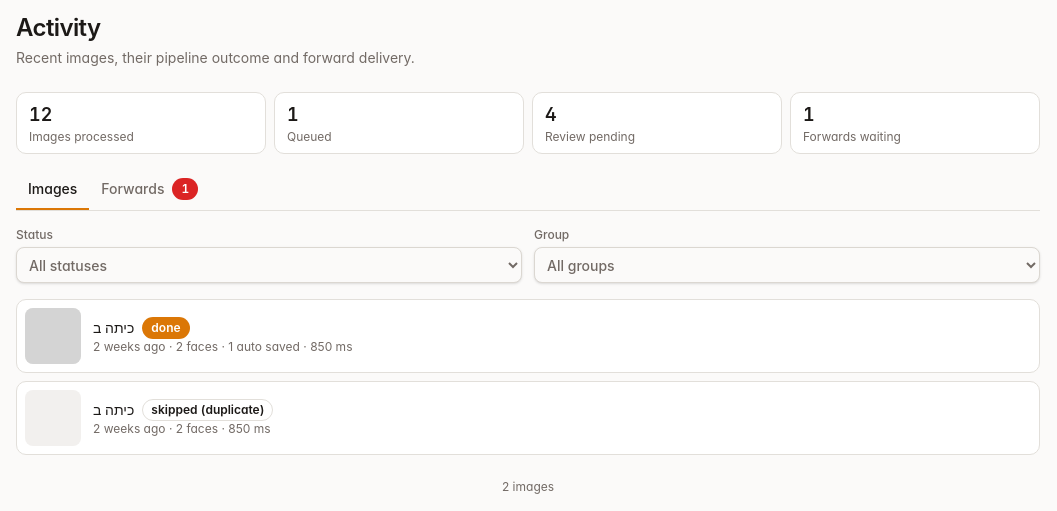
ActivityPage › shows a channel badge on failed and pending forwards
Click the tab "Forwards 1": x=150, y=190 x1=89 y1=170 x2=210 y2=210
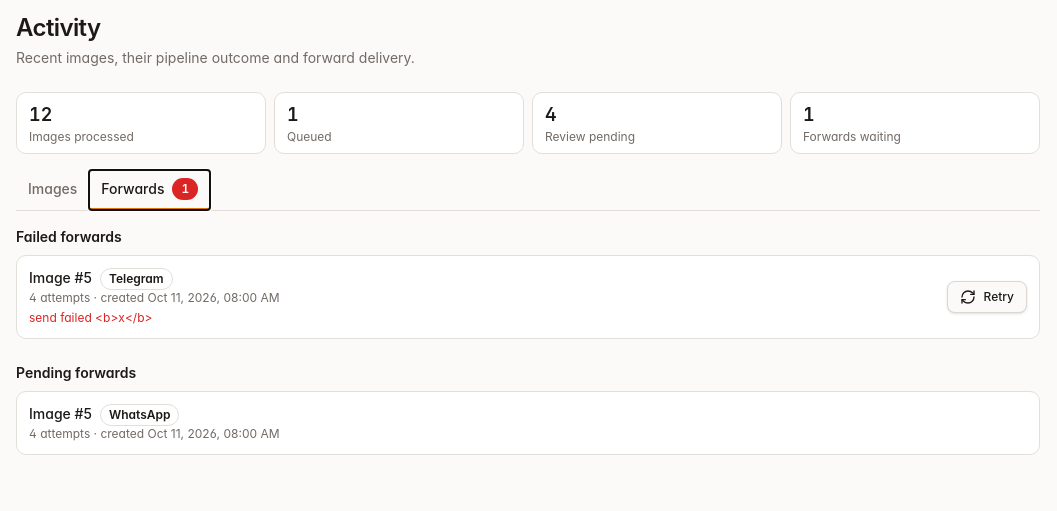
Check: the text with test id "forward-channel" reads "Telegram", box x1=109 y1=271 x2=164 y2=286
Check: the text with test id "forward-channel" reads "WhatsApp", box x1=109 y1=407 x2=170 y2=422
